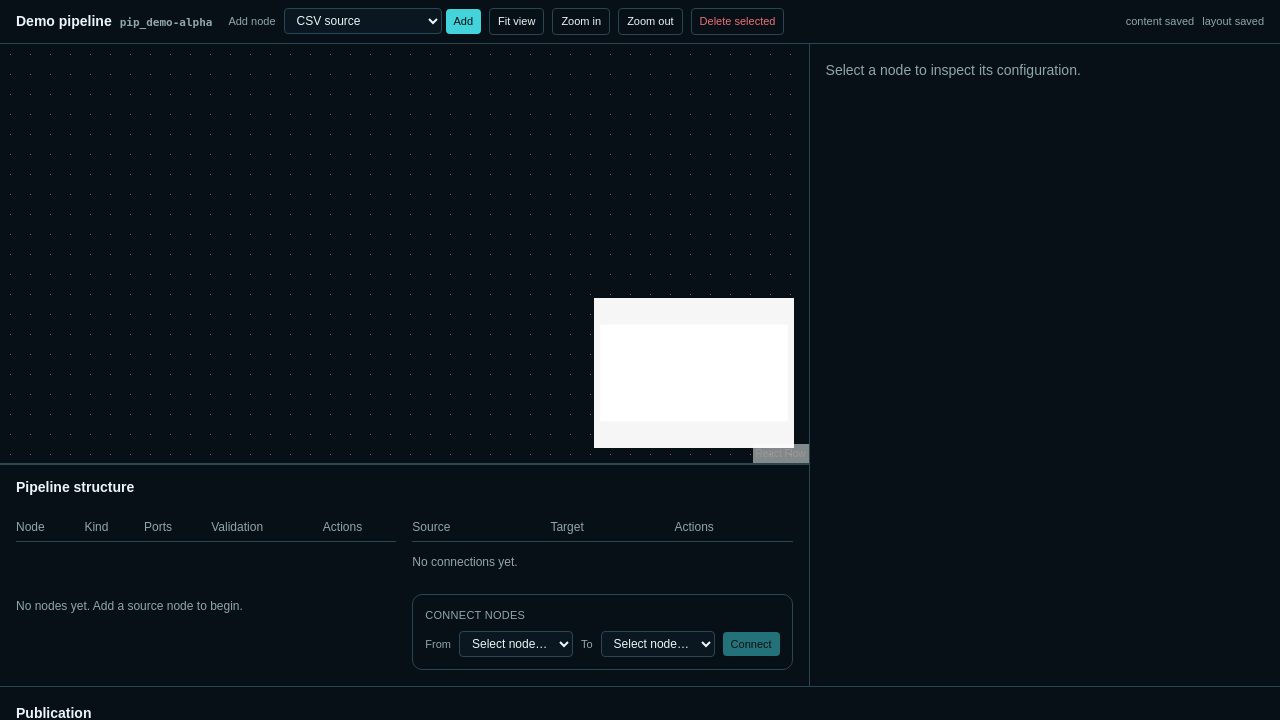
fresh studio surfaces › shows empty structure tables and disables publishing before authoring
Expected: the text "No nodes yet. Add a source node to begin." is shown, left=16, top=543, right=396, bottom=670
Expected: the text "No connections yet." is shown, left=412, top=542, right=793, bottom=582
Authoring flips the durable dirty indicator immediately.
Select "CSV source" in the dropdown labelled "Add node": (362, 21) left=284, top=8, right=442, bottom=34
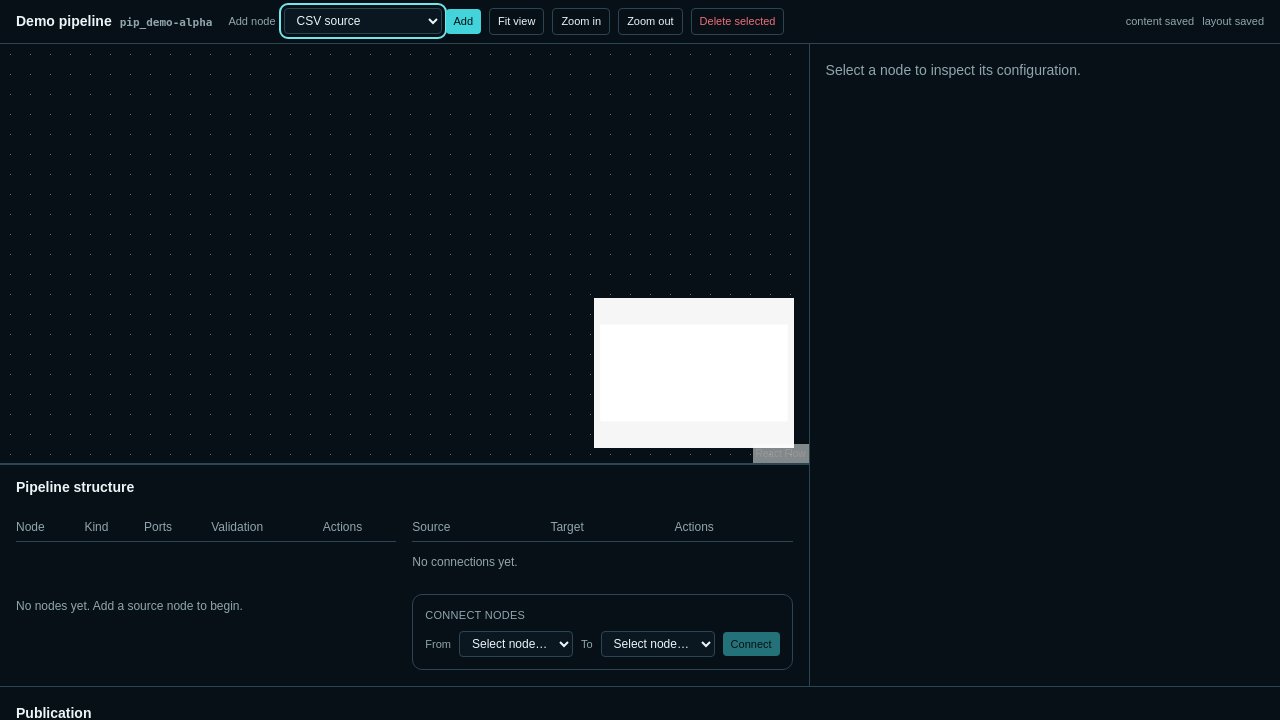
Click the button with test id "add-node-button": (463, 21) left=446, top=9, right=481, bottom=34
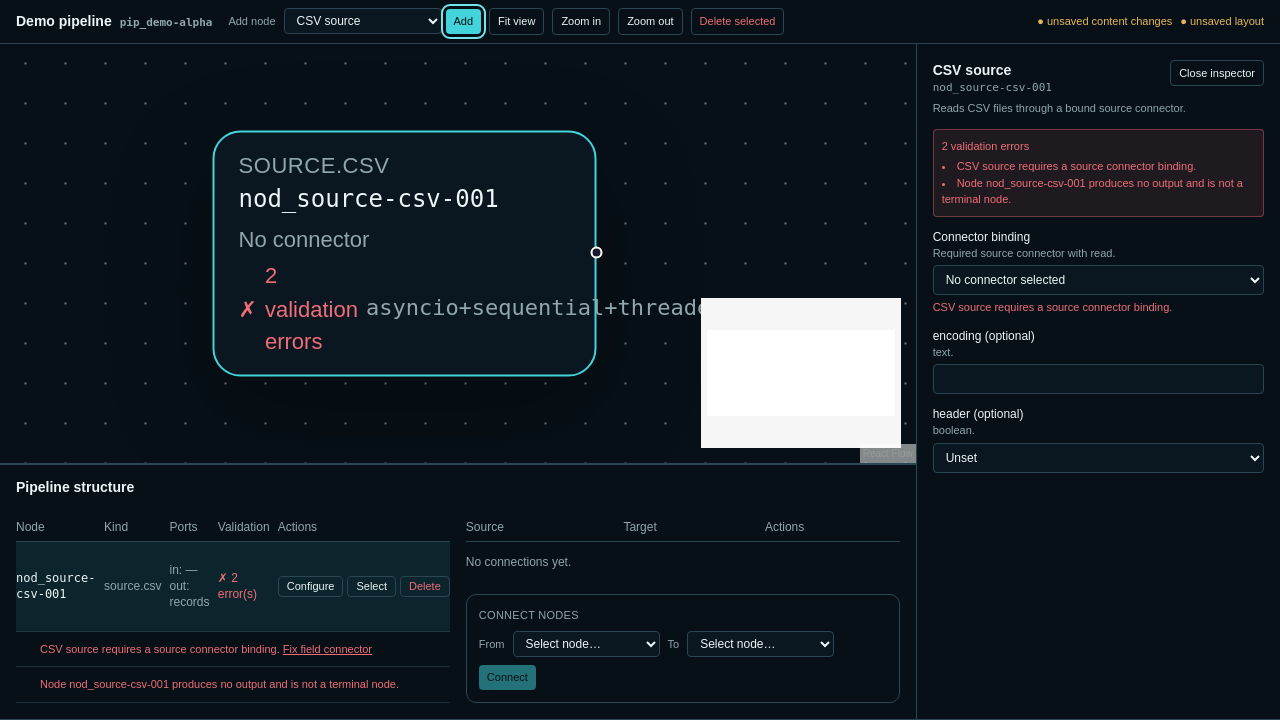
Expected: the text "● unsaved content changes" is shown, left=1037, top=13, right=1172, bottom=30
The toolbar delete control works against the current selection.
Click the button "Delete selected": (738, 21) left=691, top=8, right=784, bottom=34
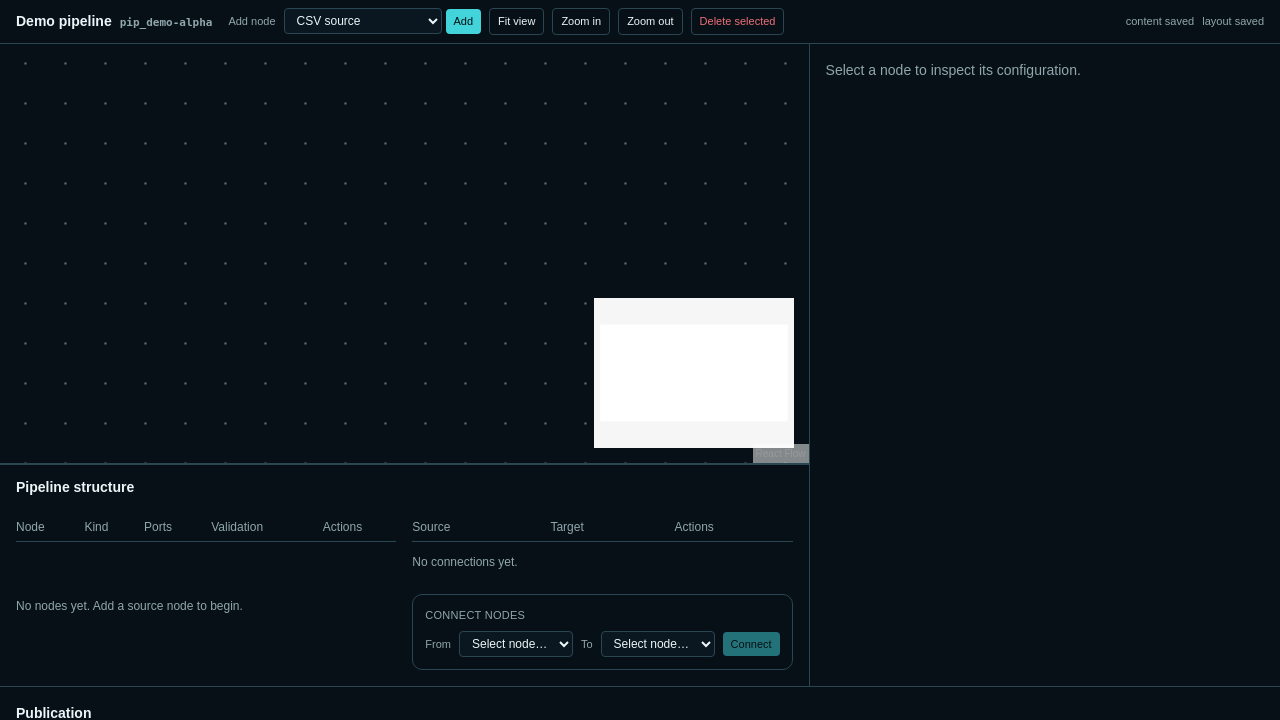
Expected: the text "No nodes yet. Add a source node to begin." is shown, left=16, top=543, right=396, bottom=670
